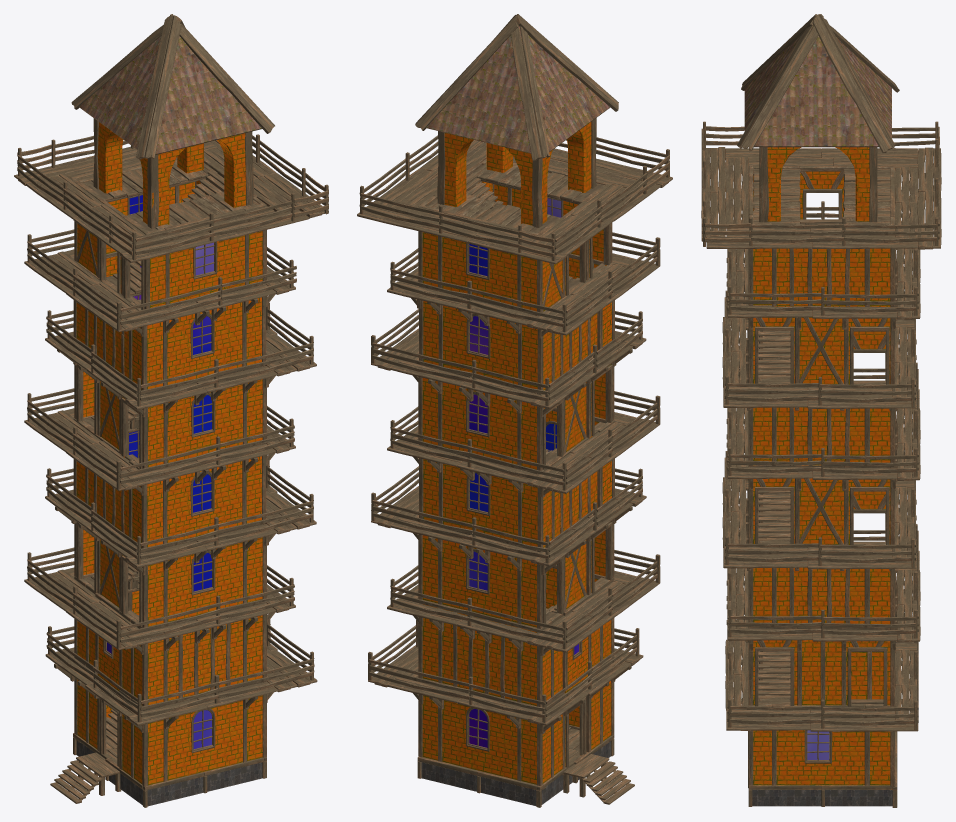
3 views of the same model, side by side, from view 1: azimuth 30°, elevation 25°; view 2: azimuth 150°, elevation 25°; view 3: azimuth 270°, elevation 25° (orthographic).
Parts seen in each view (by area): view 1: SM_Tower_02_LOD0; view 2: SM_Tower_02_LOD0; view 3: SM_Tower_02_LOD0.
Boxes of the visible parts, <box> form: SM_Tower_02_LOD0: <box>14,14,328,807</box>; SM_Tower_02_LOD0: <box>357,14,672,807</box>; SM_Tower_02_LOD0: <box>701,14,941,807</box>.
Bounding box in the file's own units: 1054 × 1034 × 3638.
